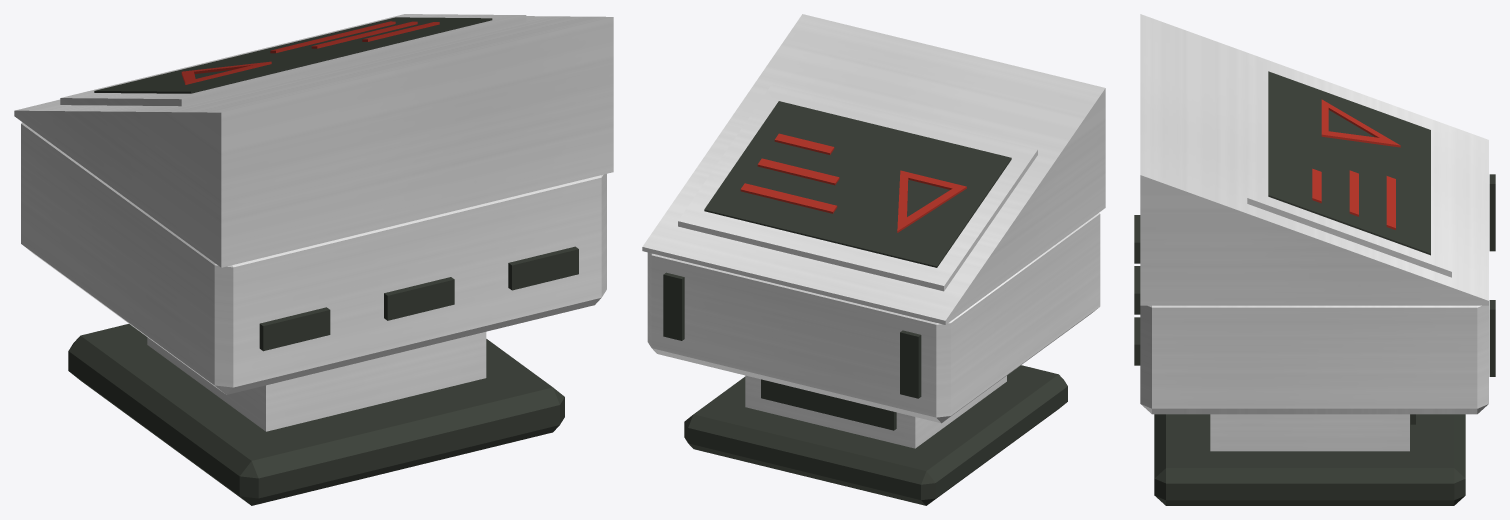
The model's file is enemy_terminal.obj.
3 renders of one model, left to right at view 1: azimuth 30°, elevation 25°; view 2: azimuth 150°, elevation 25°; view 3: azimuth 270°, elevation 25°, orthographic. The views are drawn at different scales.
Parts seen in each view (by area): view 1: enemy_terminal; view 2: enemy_terminal; view 3: enemy_terminal.
Boxes of the visible parts, x1=… form: enemy_terminal: x1=14, y1=14, x2=613, y2=505; enemy_terminal: x1=642, y1=14, x2=1105, y2=505; enemy_terminal: x1=1134, y1=14, x2=1495, y2=505.
Bounding box in the file's own units: 0.82 × 0.83 × 0.777.
